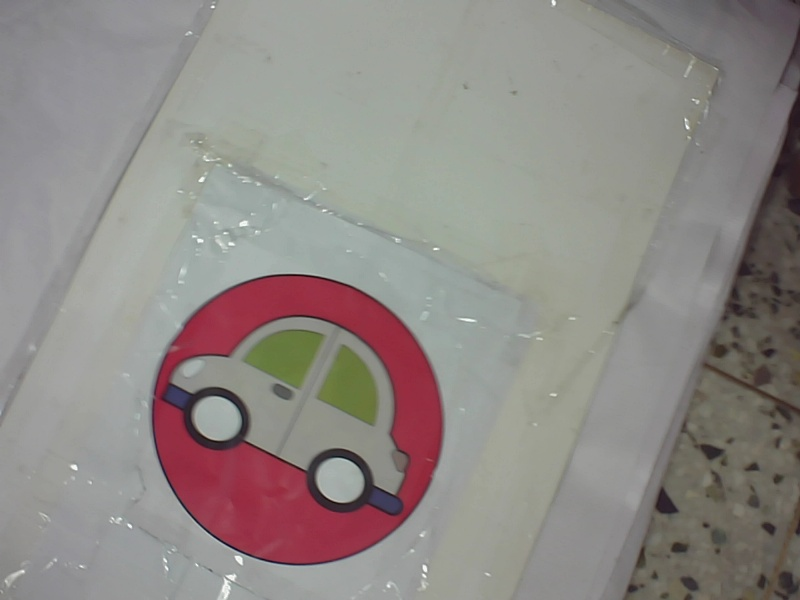areaC: (138, 268, 456, 573)
